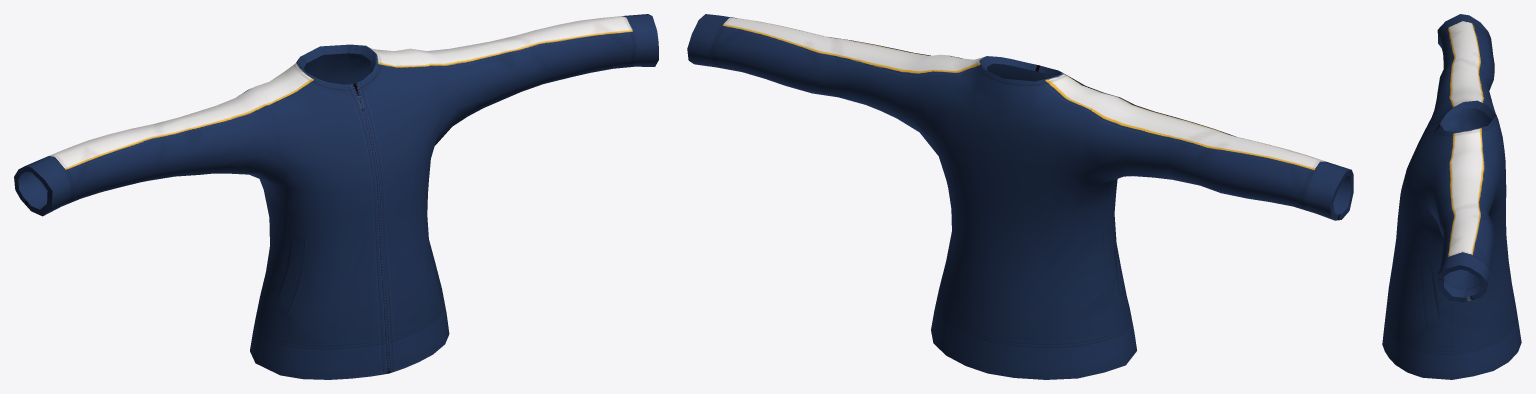
The model's file is Longsleeve_14_Albedo.glb.
The picture shows the model from 3 angles, left to right: view 1: azimuth 30°, elevation 25°; view 2: azimuth 150°, elevation 25°; view 3: azimuth 270°, elevation 25°; orthographic projection. The views are drawn at different scales.
Visible parts, largest first — view 1: Longsleeve_LP; view 2: Longsleeve_LP; view 3: Longsleeve_LP.
Part boxes in pixels (x1,y1,x2,y2): Longsleeve_LP: [14, 14, 658, 379]; Longsleeve_LP: [687, 14, 1353, 379]; Longsleeve_LP: [1382, 14, 1521, 379].
Bounding box in the file's own units: 1.2 × 0.5118 × 0.2812.
1 material, 1 textured.
